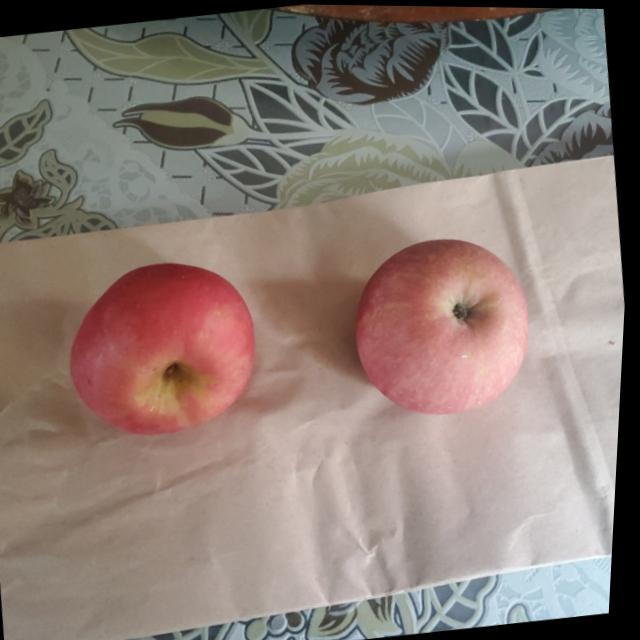apple: (59, 254, 269, 448), (345, 224, 543, 421)
